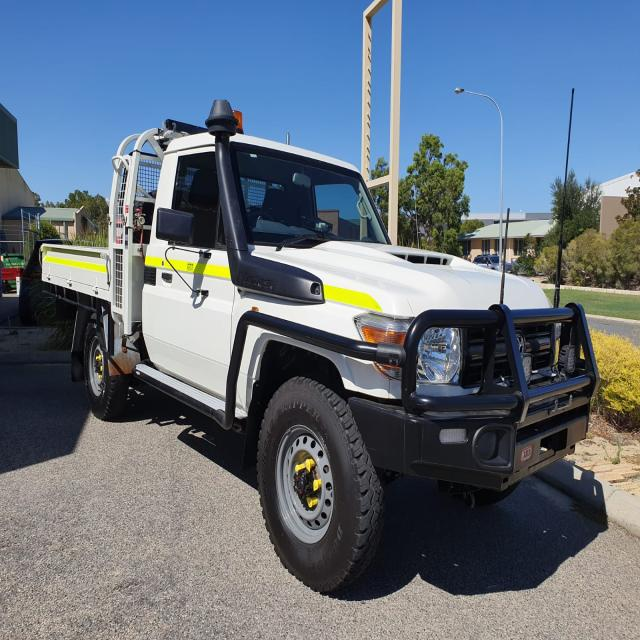light_vehicle: (34, 98, 604, 584)
